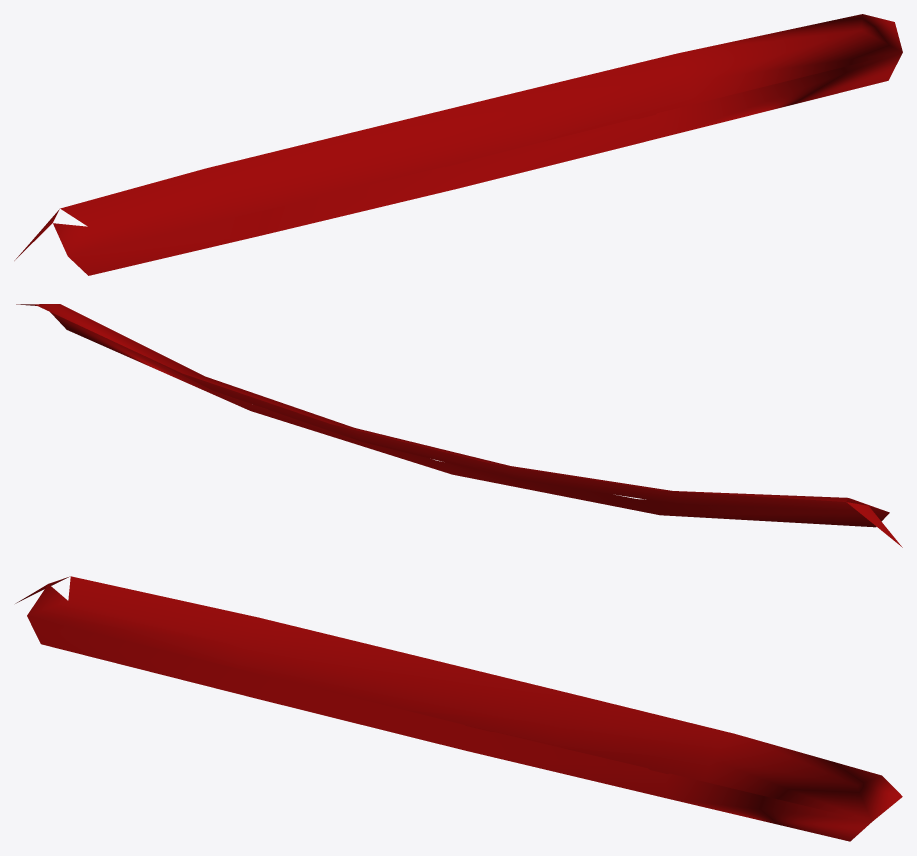
3 renders of one model, top to bottom at view 1: azimuth 30°, elevation 25°; view 2: azimuth 150°, elevation 25°; view 3: azimuth 330°, elevation 25°, orthographic.
Size of the model in its own units: 0.705 by 0.0556 by 0.0775.
